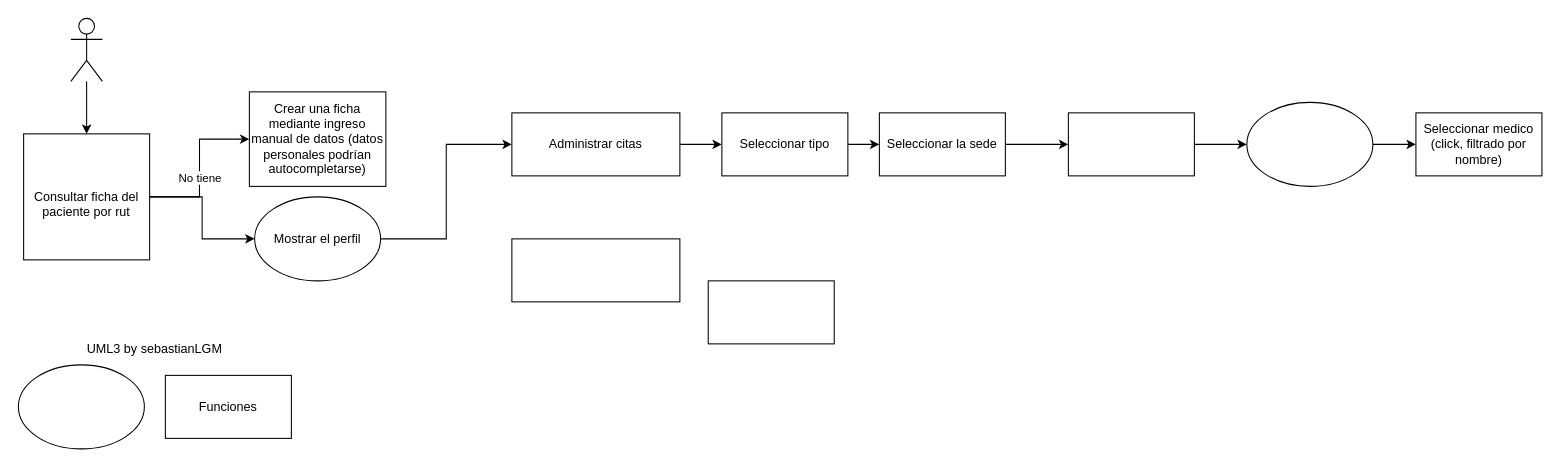
The diagram is 1560 pixels wide and 467 high, and some of its shapes have lost their labels. Each missing label, with the centre of its shape:
"Horas disponibles" belongs at [1130,144].
"Lista de medicos disponibles" belongs at [1309,143].
"Respuesta sistema" belongs at [80,406].
"Sexretaria" belongs at [86,49].
